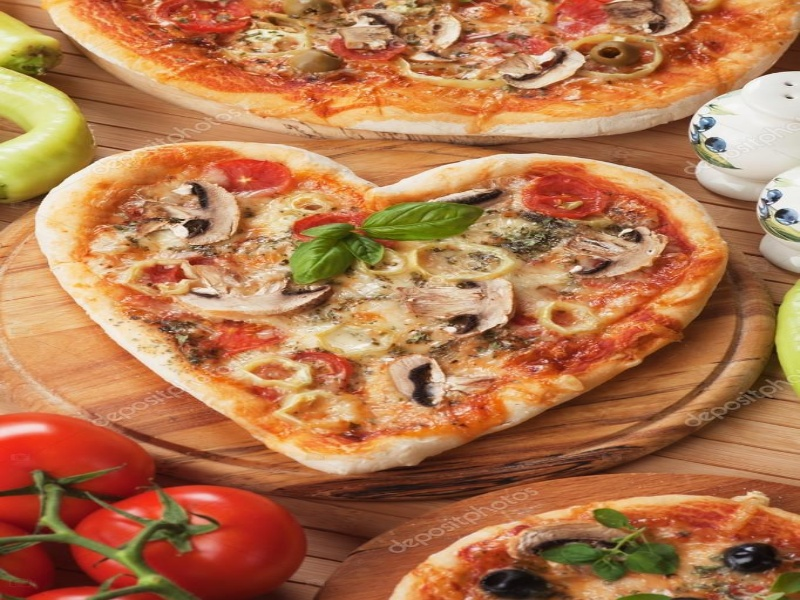champignon: (170, 266, 329, 330), (410, 277, 519, 336), (561, 224, 670, 280), (163, 178, 243, 246), (495, 44, 584, 104), (388, 351, 453, 418)
olive: (714, 540, 790, 585), (588, 38, 638, 75)
